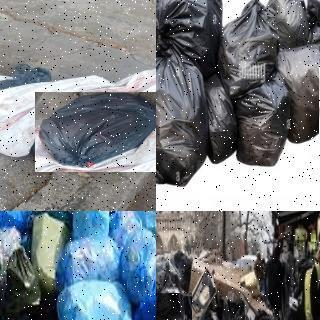Garbage: (35, 91, 156, 172), (156, 53, 205, 185), (219, 0, 278, 97), (234, 76, 290, 166), (157, 0, 222, 66), (277, 46, 320, 142), (0, 242, 51, 320), (57, 232, 120, 290), (52, 278, 135, 320), (202, 73, 234, 164), (119, 226, 156, 303), (265, 0, 310, 46), (133, 265, 156, 320), (306, 0, 320, 70), (156, 293, 192, 320), (72, 211, 109, 236), (0, 211, 40, 229), (247, 308, 278, 320)
